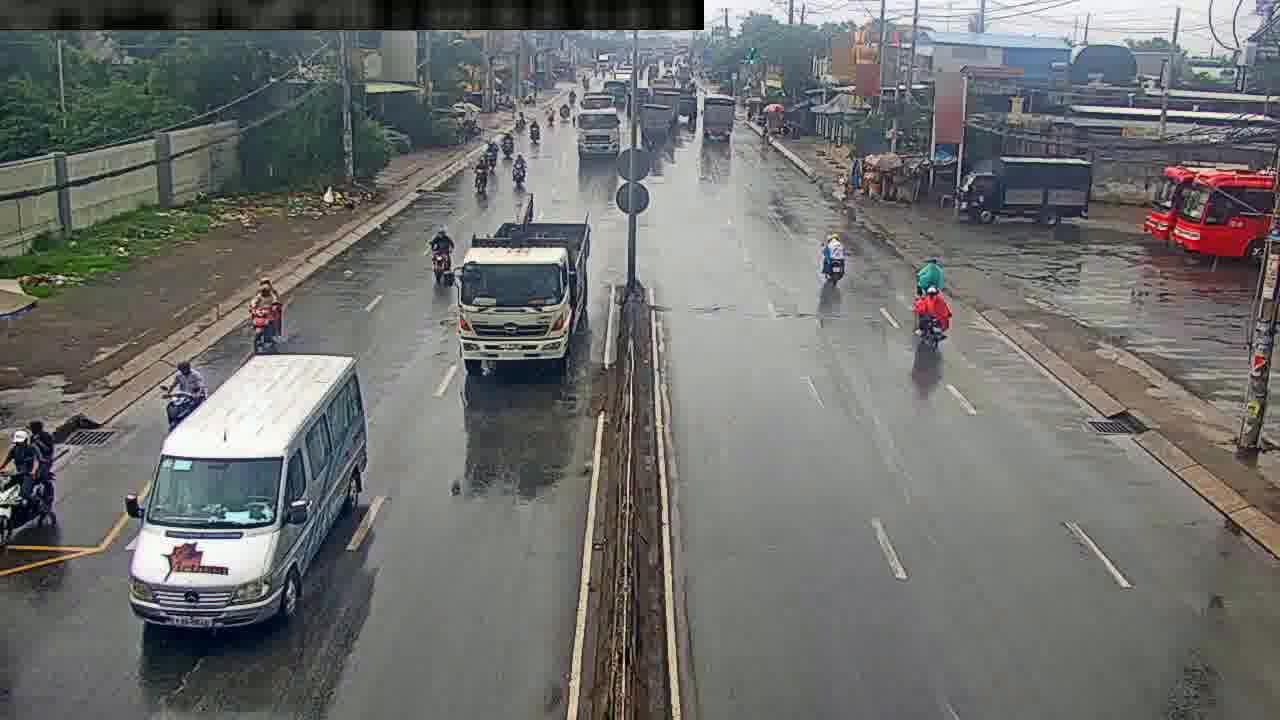14: (126, 350, 369, 627)
8: (459, 199, 589, 370), (577, 108, 618, 159)
motorbike: (0, 421, 54, 538), (917, 276, 948, 348), (165, 360, 197, 427), (250, 278, 280, 349), (429, 224, 455, 283), (821, 232, 845, 290), (914, 258, 943, 287), (473, 154, 490, 193), (511, 148, 526, 186)
